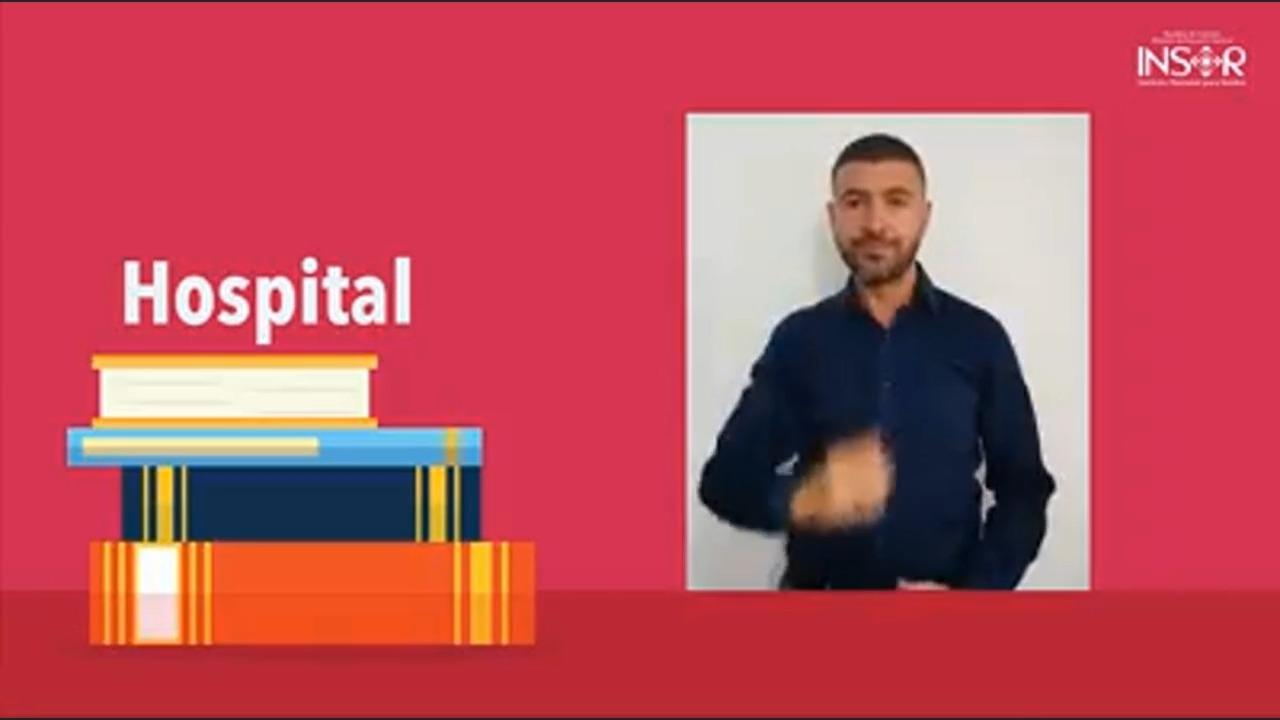Hospital: (692, 128, 1103, 537)
